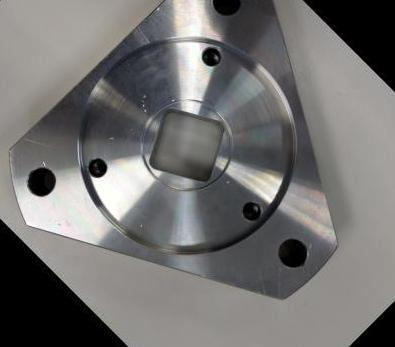hole: (16, 156, 65, 206), (268, 229, 316, 277), (233, 193, 269, 228), (193, 38, 228, 73), (204, 0, 251, 25), (80, 151, 113, 184)
